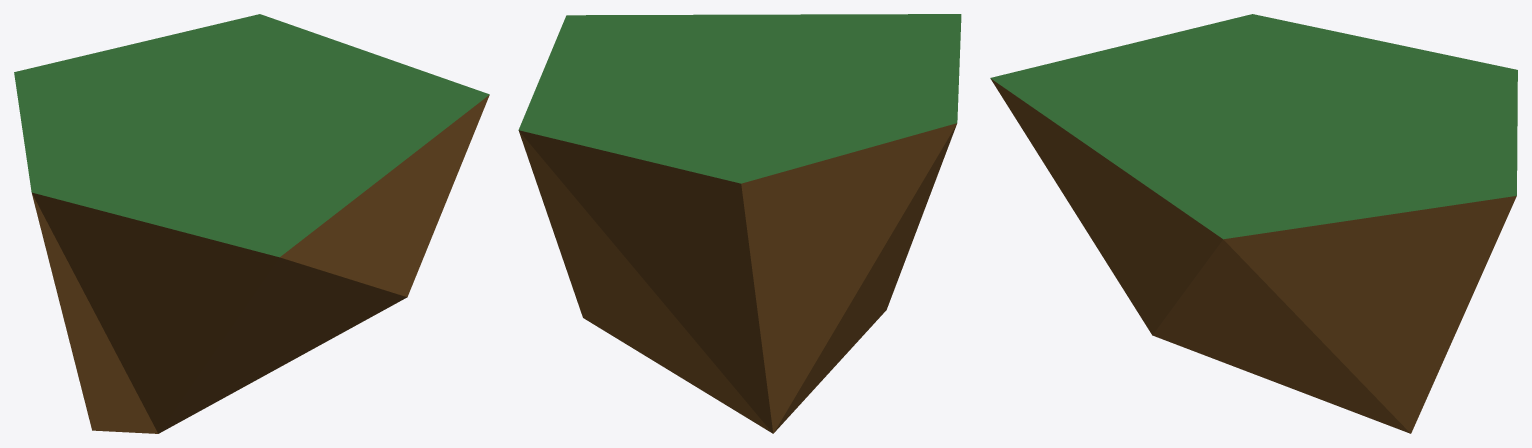
File: blankIslandLOD2.fbx
3 views of the same model, side by side, from view 1: azimuth 30°, elevation 25°; view 2: azimuth 150°, elevation 25°; view 3: azimuth 270°, elevation 25° (orthographic). The views are drawn at different scales.
Visible parts, largest first — view 1: Cube.002; view 2: Cube.002; view 3: Cube.002.
Part boxes in pixels (x1,y1,x2,y2): Cube.002: (14, 14, 489, 433); Cube.002: (518, 14, 961, 433); Cube.002: (990, 14, 1517, 433).
Bounding box in the file's own units: 368 × 255 × 365.
